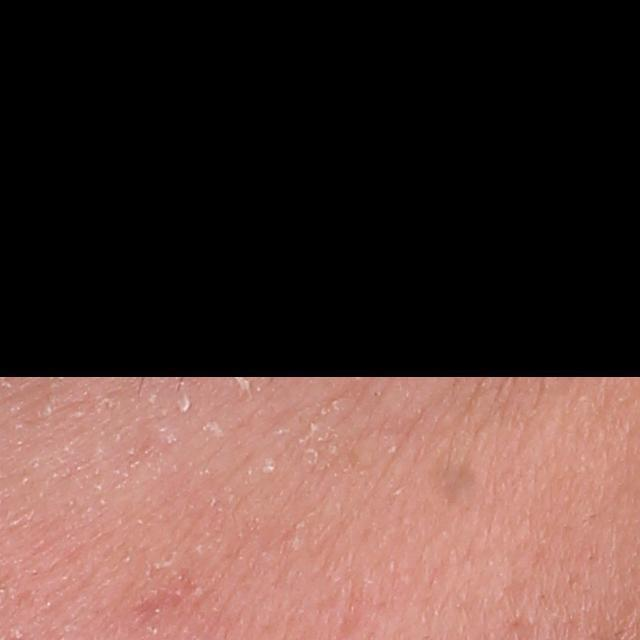other: (428, 447, 481, 502)
